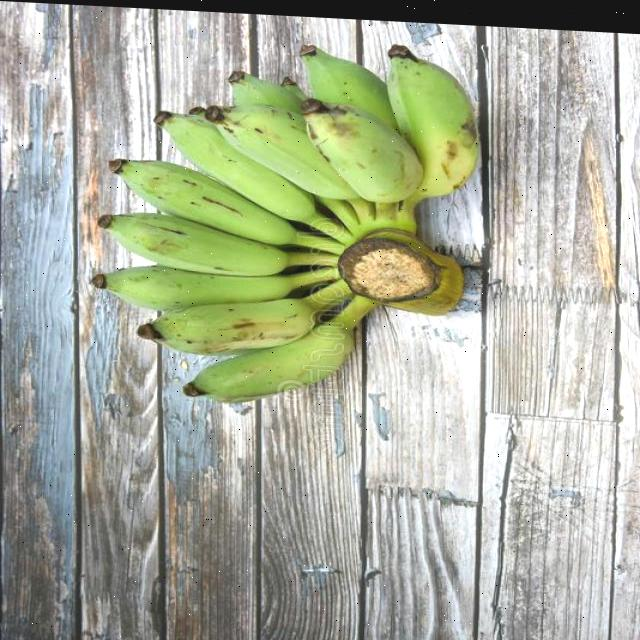banana: (82, 24, 488, 419)
